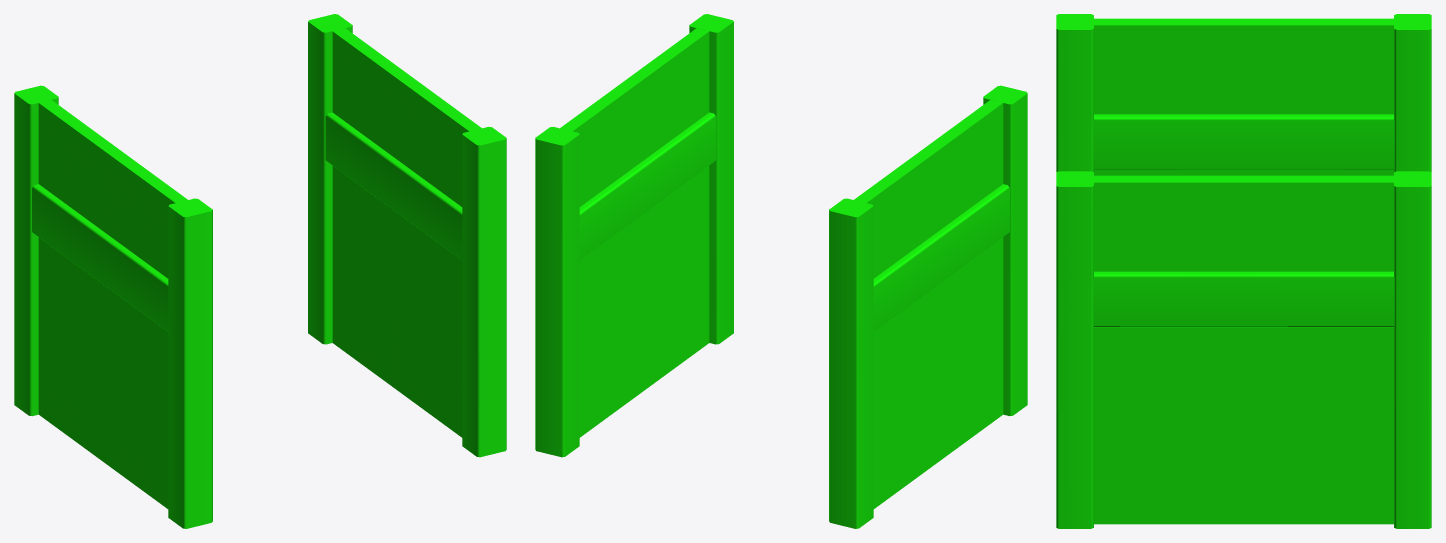
Rendered from SM_ElevatorShaft_2.FBX.
The picture shows the model from 3 angles, left to right: view 1: azimuth 30°, elevation 25°; view 2: azimuth 150°, elevation 25°; view 3: azimuth 270°, elevation 25°; orthographic projection. The views are drawn at different scales.
Parts seen in each view (by area): view 1: ElevatorShaft002; view 2: ElevatorShaft002; view 3: ElevatorShaft002.
Part boxes in pixels (left/top/right/bottom): ElevatorShaft002: left=14, top=14, right=506, bottom=528; ElevatorShaft002: left=535, top=14, right=1027, bottom=528; ElevatorShaft002: left=1056, top=14, right=1431, bottom=528.
Size of the model in its own units: 214 by 197 by 196.
